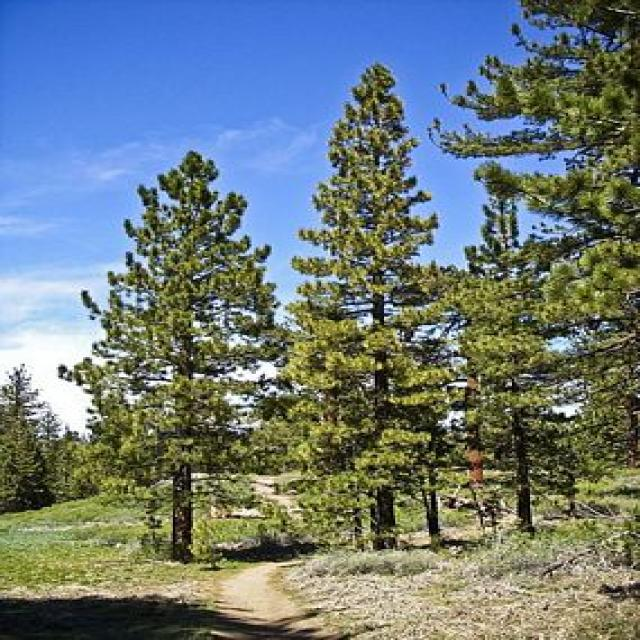Pinus jeffreyi: (51, 145, 302, 558), (281, 60, 458, 548), (452, 185, 593, 537)
